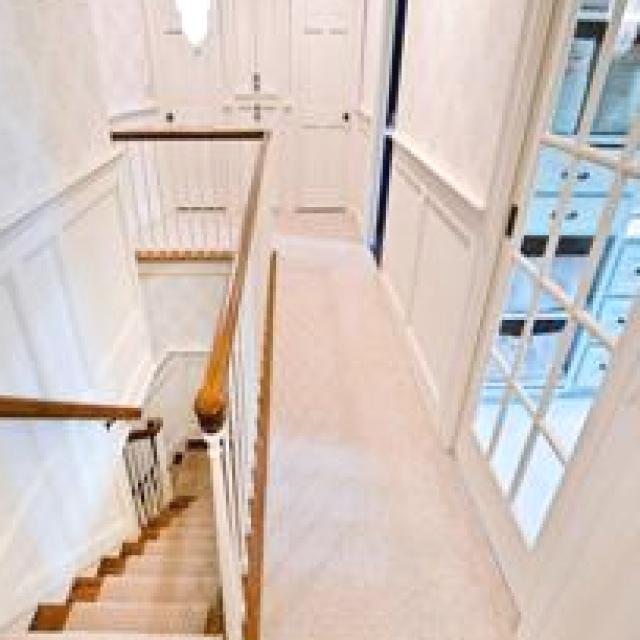downstair: (19, 471, 236, 640)
